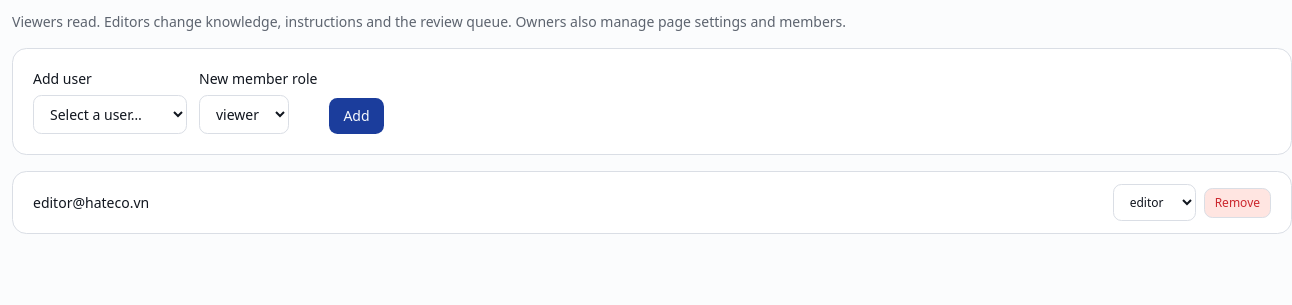
Scenario: MembersTab › shows the server error when the change is refused
The width and height of the screenshot is (1292, 305).
Select "viewer" in the dropdown showing "editor" at (1154, 202), box [1113,184,1196,221]
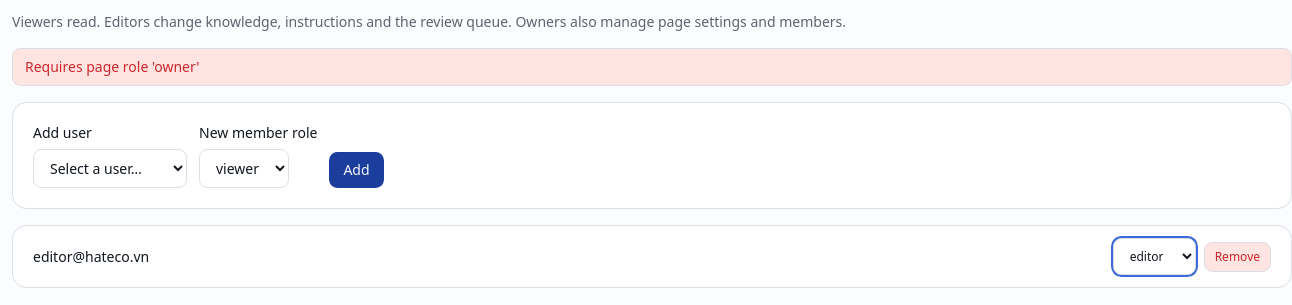
Expected: the message reads "Requires page role 'owner'", [25,57,200,76]
